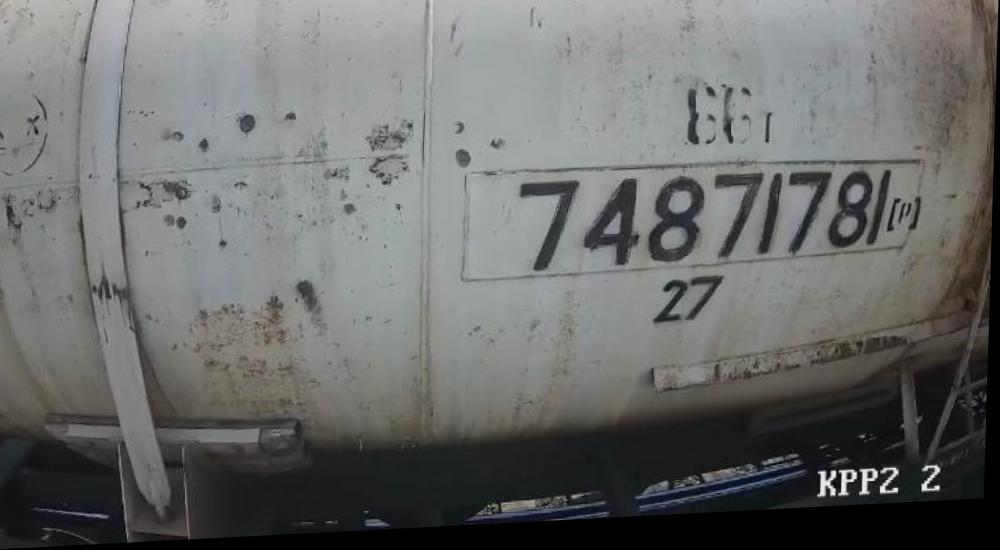Wagon-number: (512, 170, 894, 283)
